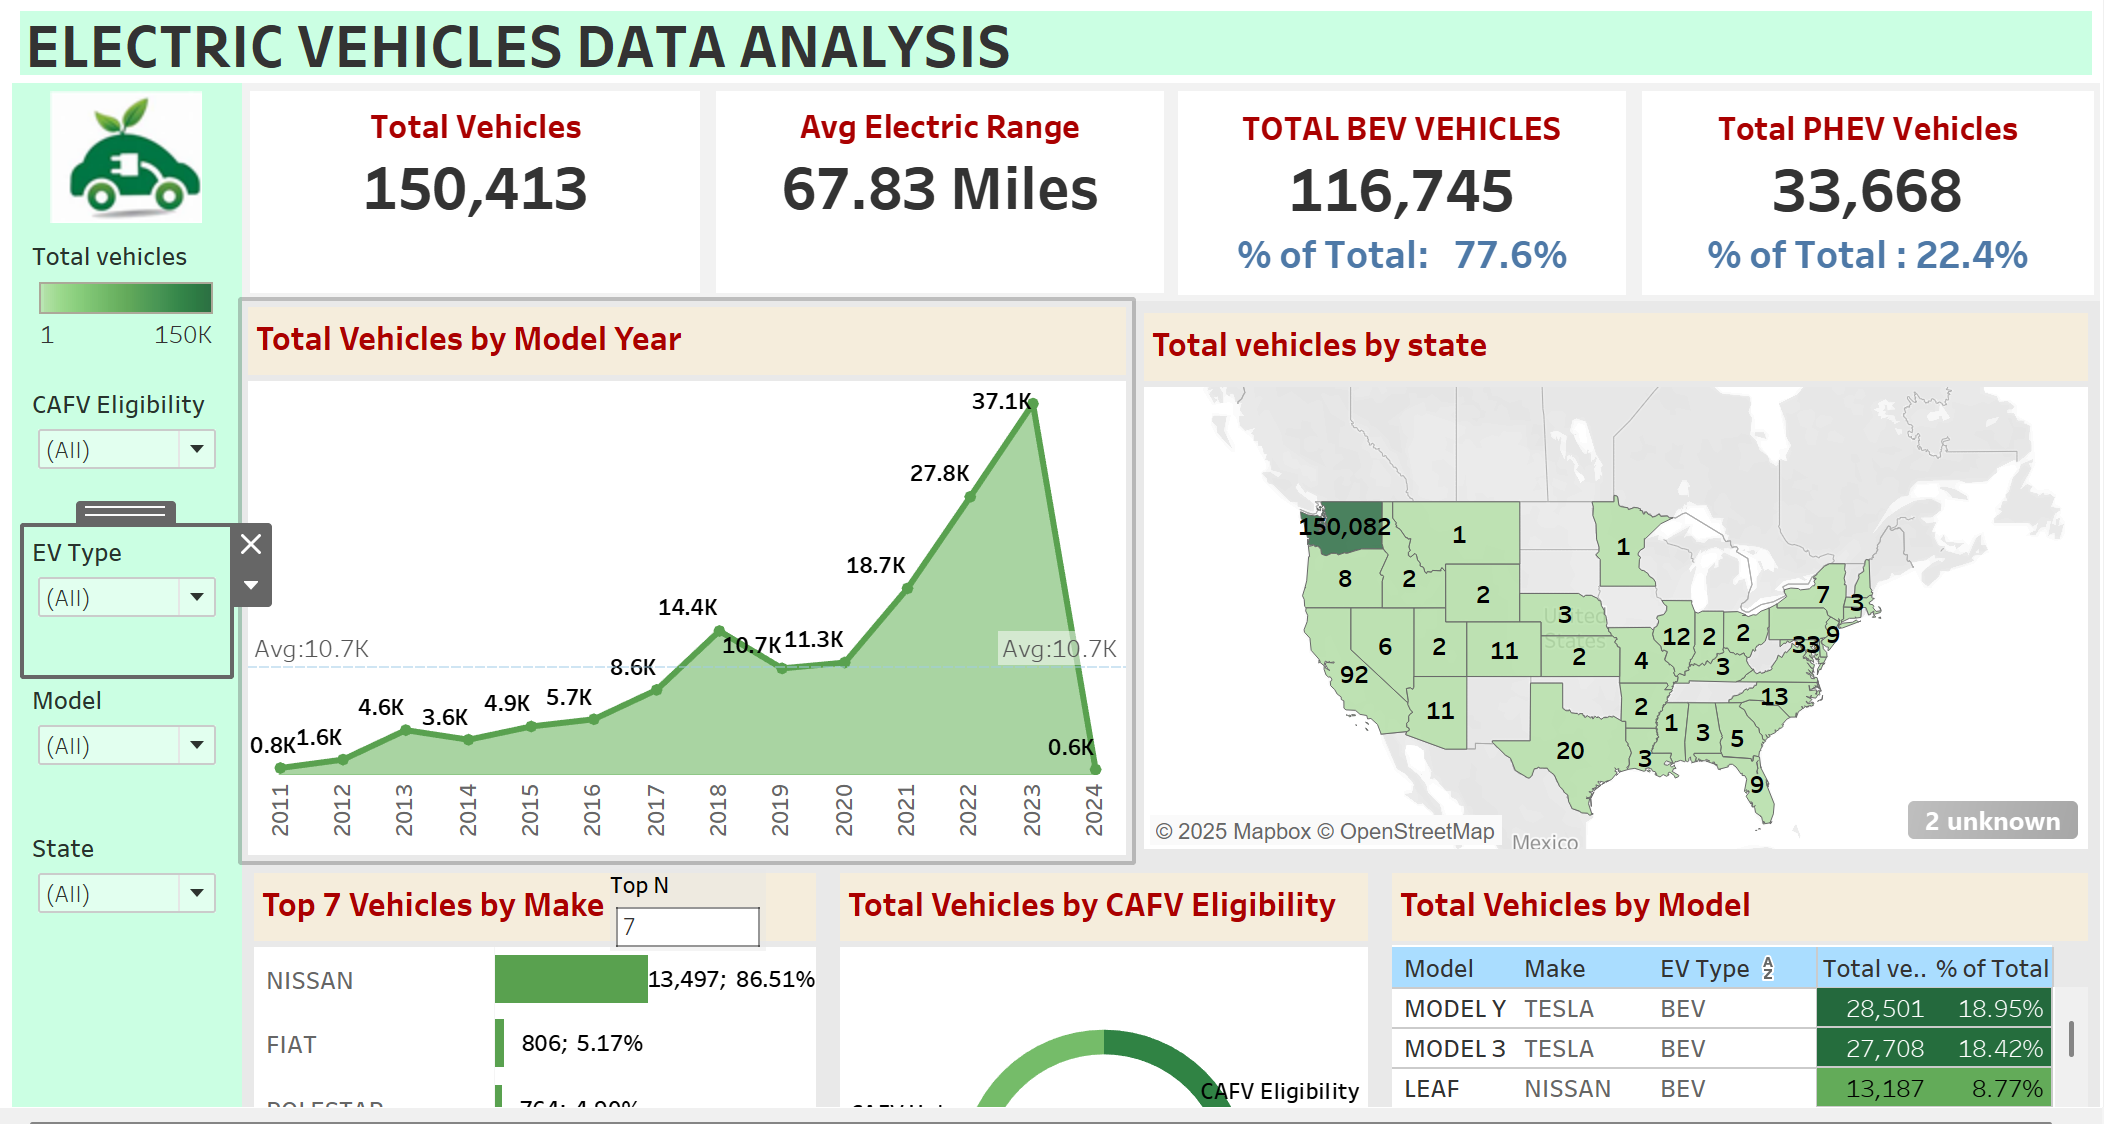

What the dashboard file says about the page in this screenshot:
{"tool":"tableau","page":{"name":"Dashboard 1","canvas":[1600,900],"ordinal":0},"visuals":[{"type":"title","box":[8,8,1584,40]},{"type":"image","param":"C:/Users/rohit/OneDrive/Desktop/Data Analytics/Tableau/EV2.jpeg","box":[14,48,230,94]},{"type":"worksheet","title":"Total  Vehicles","mark":"Automatic","box":[250,48,336,121]},{"type":"worksheet","title":"Avg Electric Range","mark":"Automatic","box":[586,48,336,121]},{"type":"worksheet","title":"Total BEV vehicles","mark":"Automatic","box":[922,48,335,121]},{"type":"worksheet","title":"total PHEV Vehicles","mark":"Automatic","box":[1257,48,335,121]},{"type":"legend","title":"total energies by state","param":"[federated.0jqsfny0321l0s1aa08i10sji6uh].[usr:Calculation_1479713964575354880:qk","box":[14,142,230,94]},{"type":"worksheet","title":"Total vehicles by model year","mark":"Area","rows":["Calculation_1479713964575354880","Calculation_1479713964575354880"],"cols":["Model Year"],"box":[249.8,169,633,287]},{"type":"worksheet","title":"total energies by state","mark":"Multipolygon","box":[882.8,169,709.2,287]},{"type":"filter","title":"Total vehicles by model year","param":"[federated.0jqsfny0321l0s1aa08i10sji6uh].[none:Clean Alternative Fuel Vehicle (C","box":[14,236,230,94]},{"type":"filter","title":"Total vehicles by model year","param":"[federated.0jqsfny0321l0s1aa08i10sji6uh].[none:Electric Vehicle Type:nk]","box":[14,330,230,94]},{"type":"filter","title":"Total vehicles by model year","param":"[federated.0jqsfny0321l0s1aa08i10sji6uh].[none:Model:nk]","box":[14,424,230,94]},{"type":"worksheet","title":"Top 10 total vehicles by make","mark":"Automatic","rows":["Make"],"cols":["Calculation_1479713964575354880"],"box":[249.8,456,288,436]},{"type":"worksheet","title":"Total vehicles by CAFV Eligibility","mark":"Pie","rows":["Calculation_1479713964652425224","Calculation_1479713964652425224"],"box":[537.8,456,265,436]},{"type":"worksheet","title":"Total vehicles by model","mark":"Square","rows":["Model","Make","Electric Vehicle Type"],"box":[802.8,456,789.1,436]},{"type":"filter","title":"Total vehicles by model year","param":"[federated.0jqsfny0321l0s1aa08i10sji6uh].[none:State:nk]","box":[14,518,230,93]},{"type":"parameter","param":"[Parameters].[Parameter 1]","box":[31,594,160,52]},{"type":"blank","box":[14,611,230,93]},{"type":"blank","box":[14,704,230,93]},{"type":"blank","box":[14,797,230,93]}]}

Visuals, with their boxes on the page's 1600x900 design canvas (x1, y1, x2, y2). These are canvas units, not pixel positions in the 2104x1124 screenshot, which may show the page scaled, cropped or inside an application window:
title: (x1=8, y1=8, x2=1592, y2=48)
image: (x1=14, y1=48, x2=244, y2=142)
"Total  Vehicles" worksheet: (x1=250, y1=48, x2=586, y2=169)
"Avg Electric Range" worksheet: (x1=586, y1=48, x2=922, y2=169)
"Total BEV vehicles" worksheet: (x1=922, y1=48, x2=1257, y2=169)
"total PHEV Vehicles" worksheet: (x1=1257, y1=48, x2=1592, y2=169)
"total energies by state" legend: (x1=14, y1=142, x2=244, y2=236)
"Total vehicles by model year" worksheet (Area marks): (x1=250, y1=169, x2=883, y2=456)
"total energies by state" worksheet (Multipolygon marks): (x1=883, y1=169, x2=1592, y2=456)
"Total vehicles by model year" filter: (x1=14, y1=236, x2=244, y2=330)
"Total vehicles by model year" filter: (x1=14, y1=330, x2=244, y2=424)
"Total vehicles by model year" filter: (x1=14, y1=424, x2=244, y2=518)
"Top 10 total vehicles by make" worksheet: (x1=250, y1=456, x2=538, y2=892)
"Total vehicles by CAFV Eligibility" worksheet (Pie marks): (x1=538, y1=456, x2=803, y2=892)
"Total vehicles by model" worksheet (Square marks): (x1=803, y1=456, x2=1592, y2=892)
"Total vehicles by model year" filter: (x1=14, y1=518, x2=244, y2=611)
parameter: (x1=31, y1=594, x2=191, y2=646)
blank: (x1=14, y1=611, x2=244, y2=704)
blank: (x1=14, y1=704, x2=244, y2=797)
blank: (x1=14, y1=797, x2=244, y2=890)
